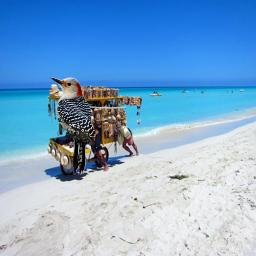Woodpecker: (50, 77, 96, 175)
